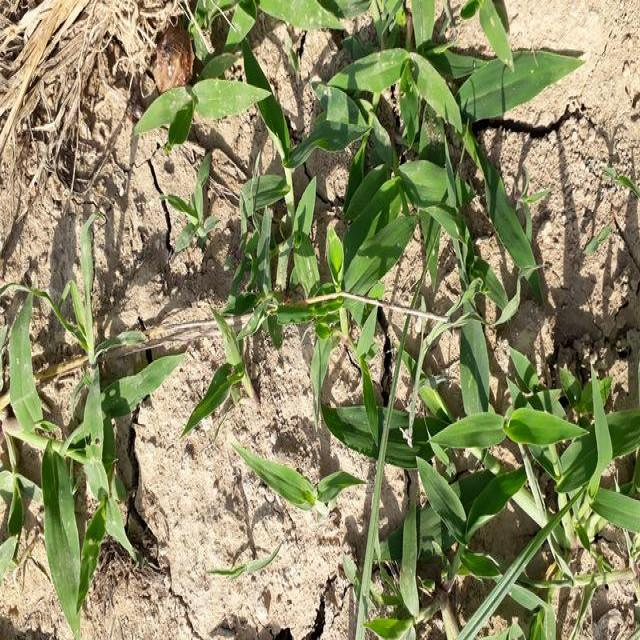weed: (328, 353, 639, 640), (276, 7, 538, 318), (16, 303, 141, 602), (136, 72, 284, 143), (204, 310, 258, 438)
